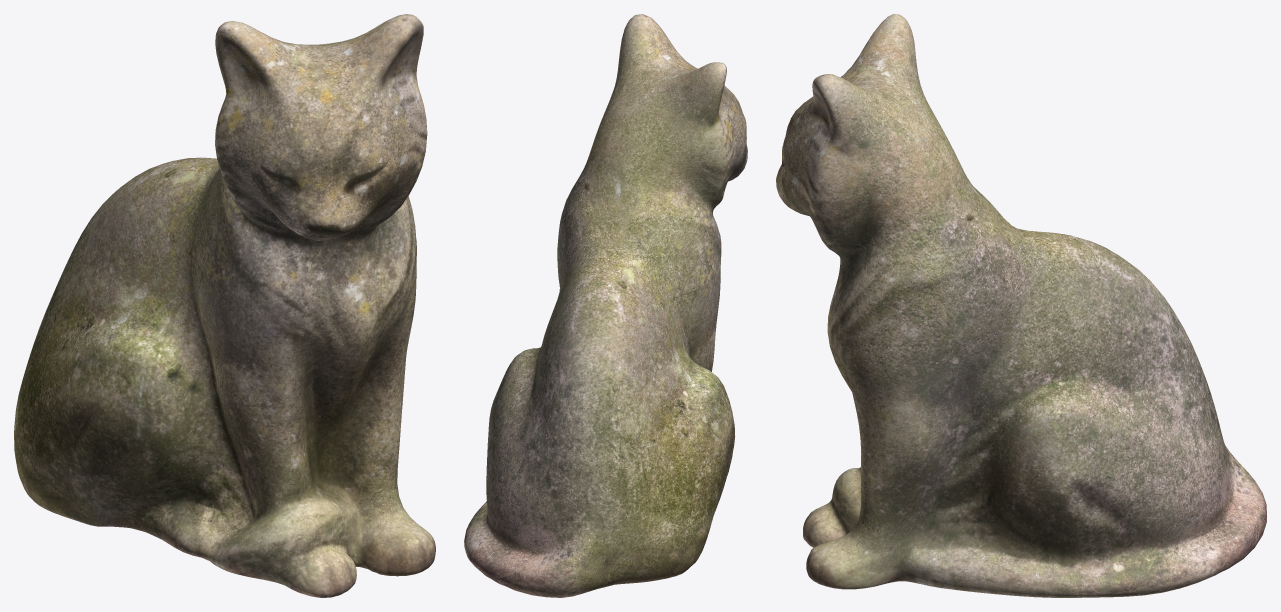
The model's file is concrete_cat_statue.glb.
The picture shows the model from 3 angles, left to right: view 1: azimuth 30°, elevation 25°; view 2: azimuth 150°, elevation 25°; view 3: azimuth 270°, elevation 25°; orthographic projection. The views are drawn at different scales.
Visible parts, largest first — view 1: concrete_cat_statue; view 2: concrete_cat_statue; view 3: concrete_cat_statue.
Boxes of the visible parts, x1,y1,x2,y2 form: concrete_cat_statue: (14, 14, 435, 597); concrete_cat_statue: (464, 14, 747, 597); concrete_cat_statue: (776, 14, 1266, 597).
Bounding box in the file's own units: 0.153 × 0.283 × 0.25.
Materials: 1 (1 with a texture image).
